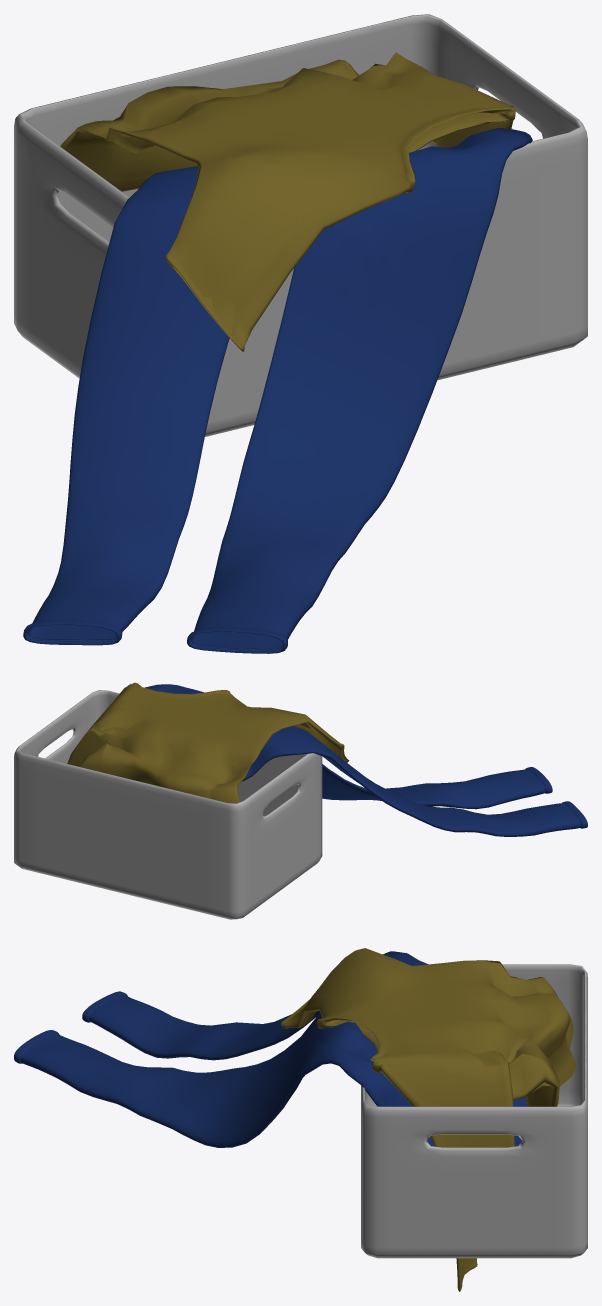
Rendered from cesto_roupa_suja.fbx.
3 views of the same model, one above another, from view 1: azimuth 30°, elevation 25°; view 2: azimuth 150°, elevation 25°; view 3: azimuth 270°, elevation 25° (orthographic). The views are drawn at different scales.
Parts seen in each view (by area): view 1: calca, cesto_roupa, camiseta; view 2: cesto_roupa, camiseta, calca; view 3: cesto_roupa, camiseta, calca.
Part boxes in pixels (left/top/right/bottom): calca: left=23, top=127, right=532, bottom=653; cesto_roupa: left=14, top=14, right=587, bottom=436; camiseta: left=60, top=52, right=515, bottom=351; cesto_roupa: left=14, top=690, right=322, bottom=919; camiseta: left=67, top=682, right=349, bottom=803; calca: left=145, top=684, right=587, bottom=836; cesto_roupa: left=361, top=964, right=587, bottom=1258; camiseta: left=281, top=948, right=576, bottom=1291; calca: left=14, top=951, right=527, bottom=1147.
Bounding box in the file's own units: 36.38 × 14.6 × 34.86.
